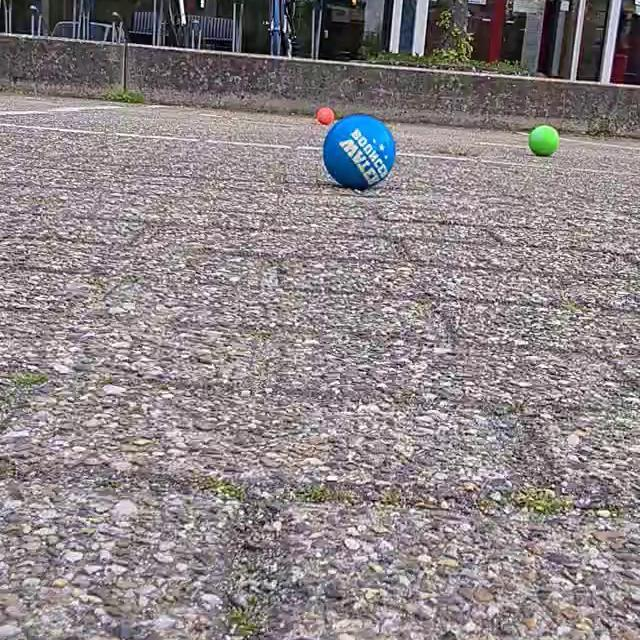ball: (528, 120, 558, 160), (312, 103, 336, 126)
